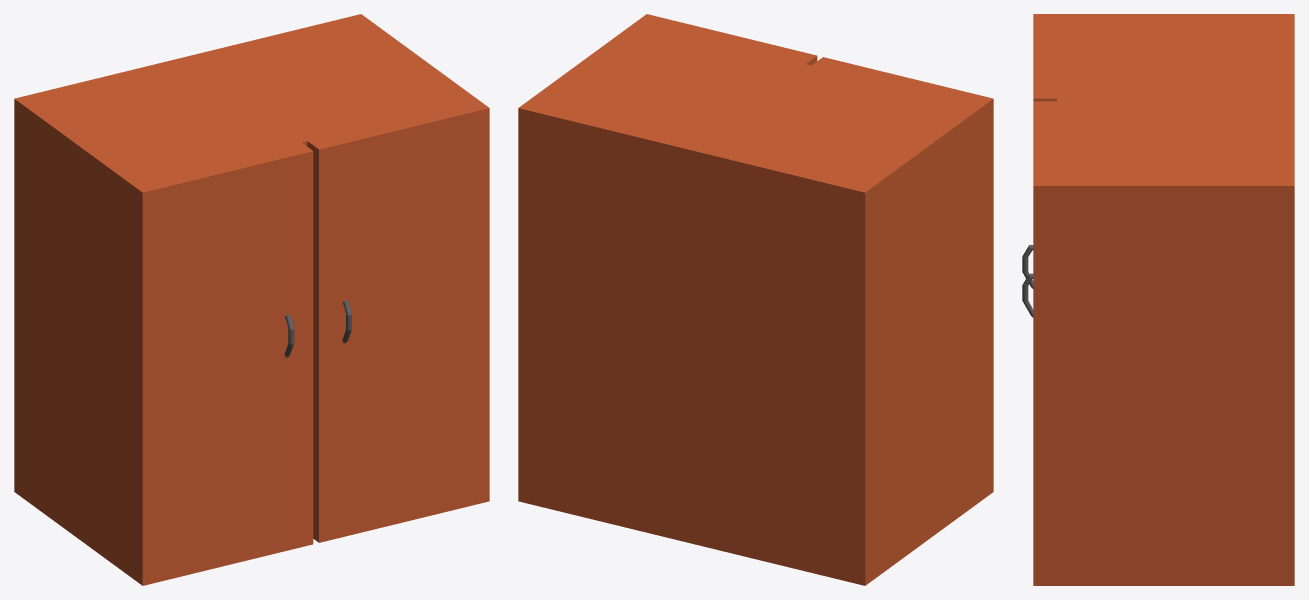
The model's file is ArmarioCocina.fbx.
3 renders of one model, left to right at view 1: azimuth 30°, elevation 25°; view 2: azimuth 150°, elevation 25°; view 3: azimuth 270°, elevation 25°, orthographic.
Visible parts, largest first — view 1: Torus; view 2: Torus; view 3: Torus.
Part boxes in pixels (x1,y1,x2,y2): Torus: (14, 14, 489, 585); Torus: (518, 14, 993, 585); Torus: (1022, 14, 1294, 585).
Bounding box in the file's own units: 1200 × 1300 × 802.
